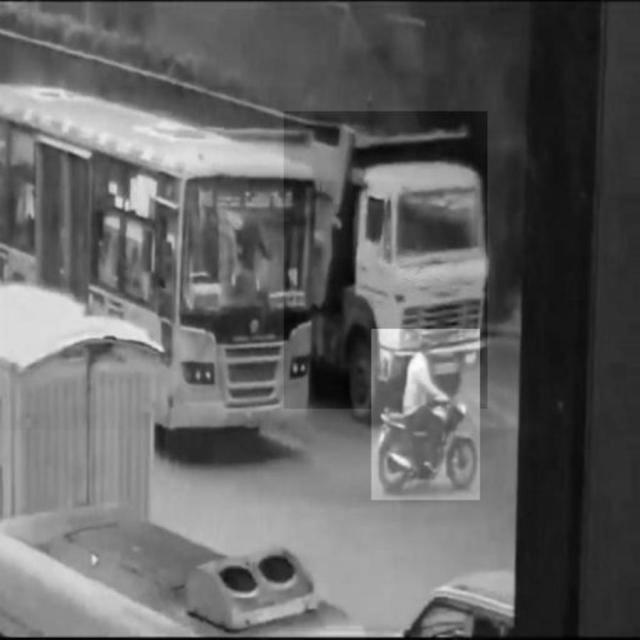vehicle: (2, 86, 308, 430), (284, 112, 488, 409), (372, 329, 480, 499)
